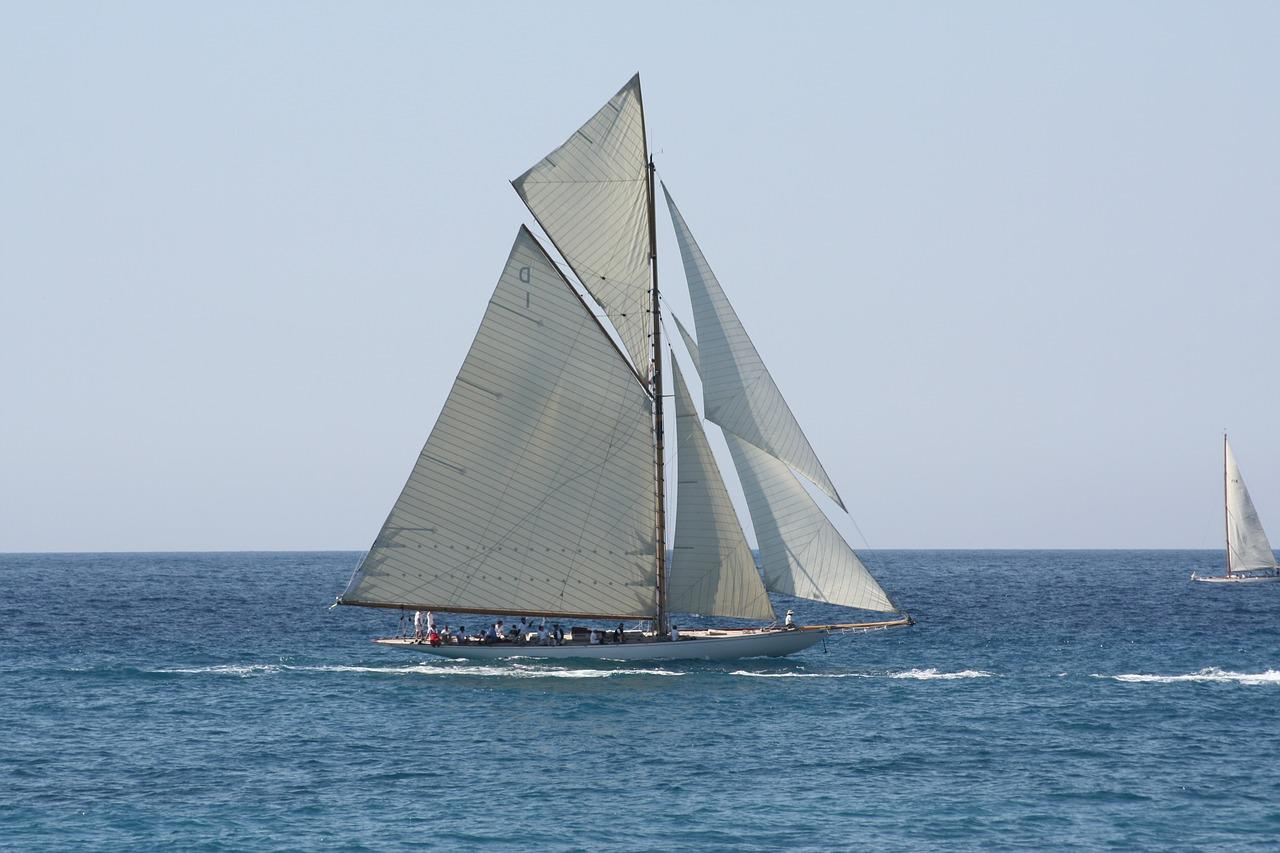Ship: (328, 73, 916, 665), (1185, 434, 1280, 589)
